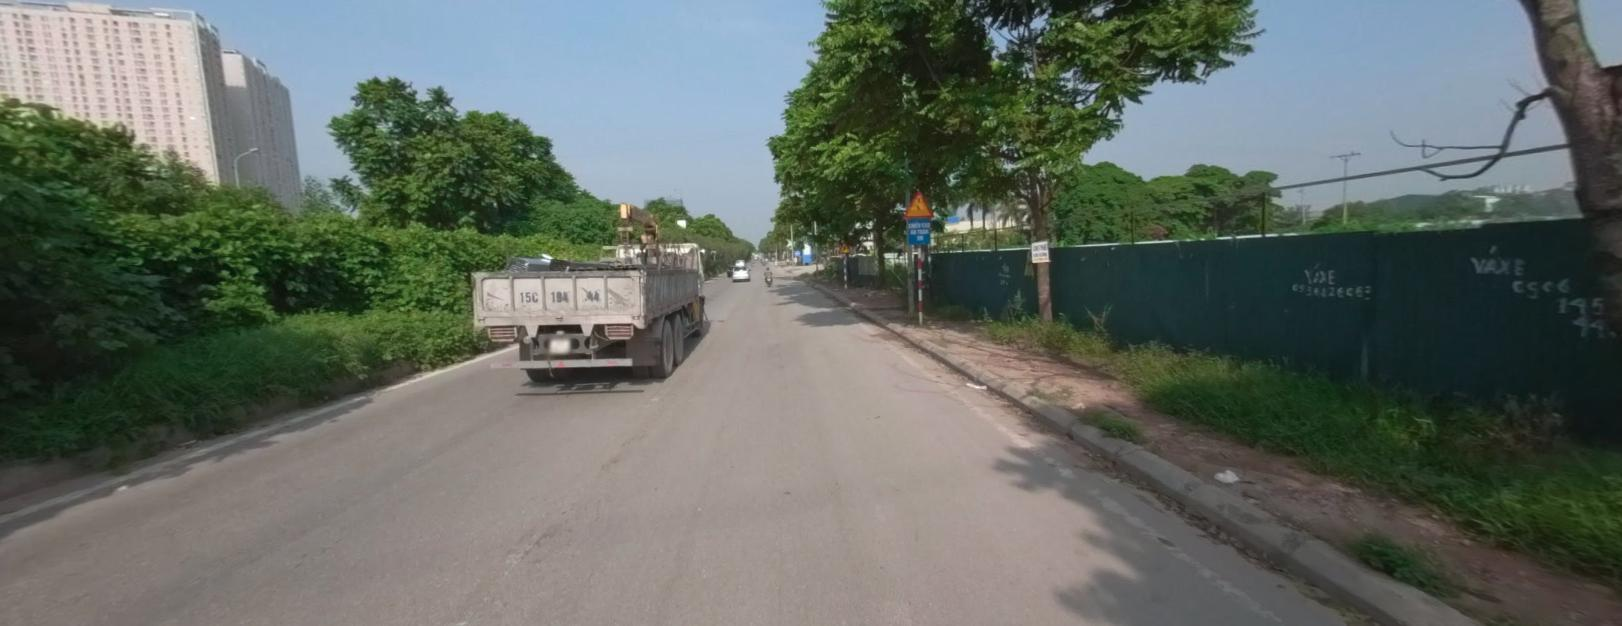Nguy hiem: (904, 189, 933, 215), (905, 189, 933, 215), (838, 240, 850, 251), (839, 240, 849, 252)
